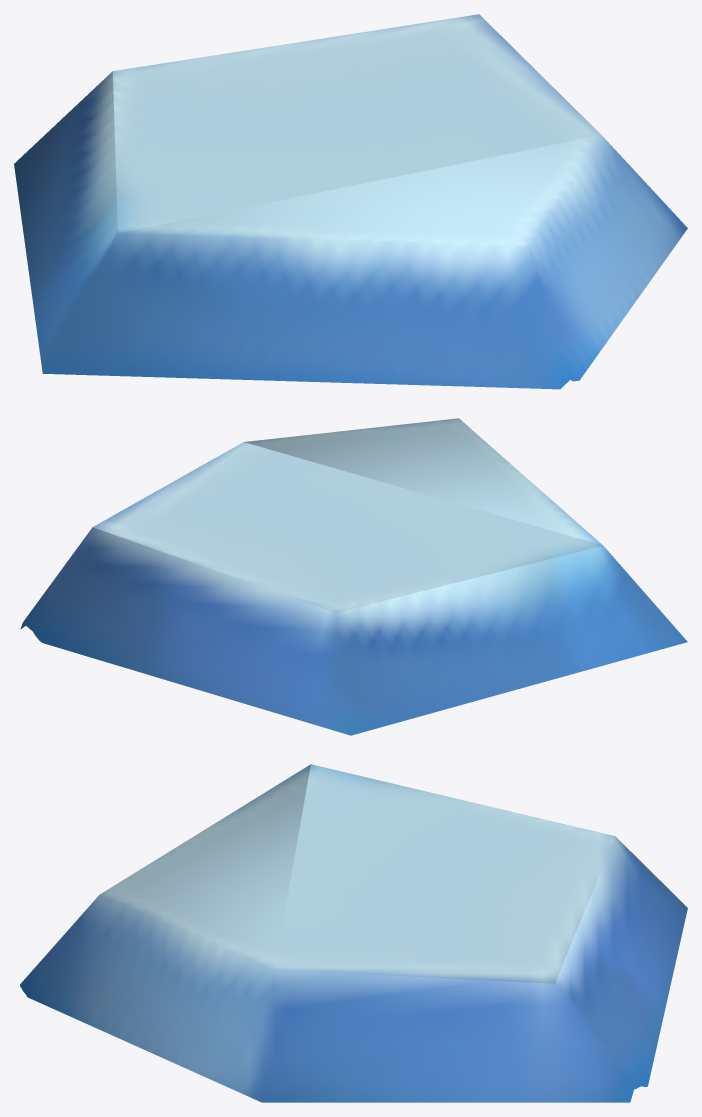
The model's file is Chapter3Scene1Stone.FBX.
The picture shows the model from 3 angles, top to bottom: view 1: azimuth 30°, elevation 25°; view 2: azimuth 150°, elevation 25°; view 3: azimuth 270°, elevation 25°; orthographic projection. The views are drawn at different scales.
Visible parts, largest first — view 1: Chapter3Scene1Stone; view 2: Chapter3Scene1Stone; view 3: Chapter3Scene1Stone.
Boxes of the visible parts, x1=… form: Chapter3Scene1Stone: x1=14, y1=14, x2=687, y2=389; Chapter3Scene1Stone: x1=20, y1=418, x2=687, y2=735; Chapter3Scene1Stone: x1=20, y1=764, x2=687, y2=1102.
Size of the model in its own units: 40.15 by 40.77 by 6.53.
